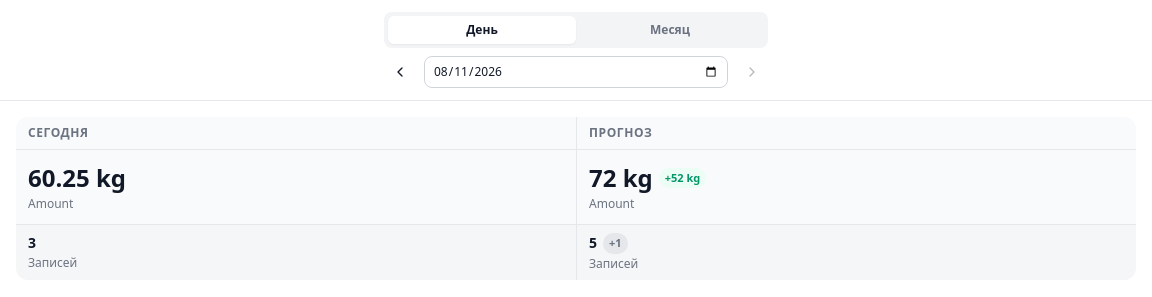
Test case: EntryStatsSummary › forecasts the current month and compares a completed month with its predecessor
Click the button with test id "stats-month-tab" at (670,30), box [576,16,764,44]
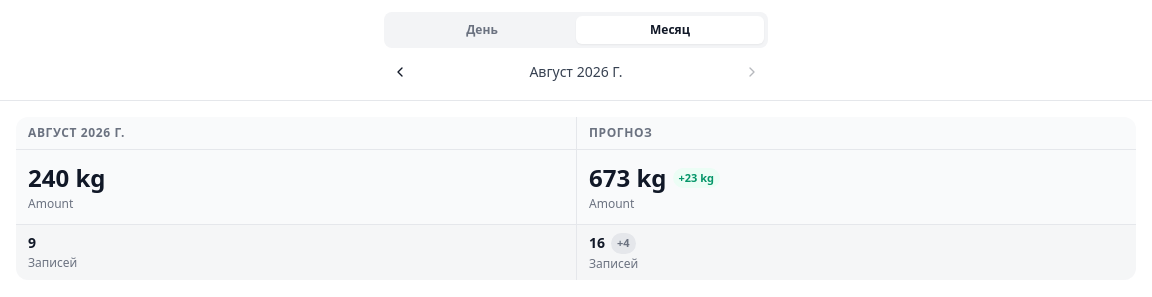
Expected: the element with test id "stats-current-amount" shows "240 kg", [28,161,106,194]
Expected: the element with test id "stats-secondary-amount" shows "673 kg", [589,161,666,194]
Expected: the element with test id "stats-current-_count" shows "9", [28,233,36,252]
Click the button with test id "stats-previous" at (400,72), box [384,56,416,88]
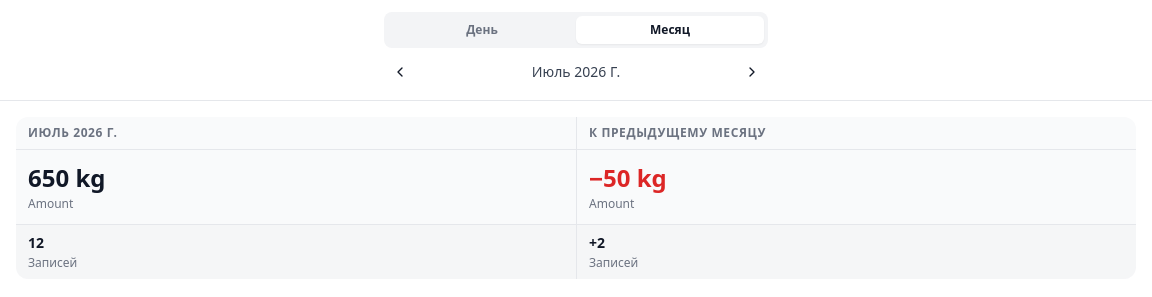
Expected: the element with test id "stats-current-amount" shows "650 kg", [28,161,106,194]
Expected: the element with test id "stats-secondary-amount" shows "−50 kg", [589,161,667,194]
Expected: the element with test id "stats-current-_count" shows "12", [28,233,44,252]
